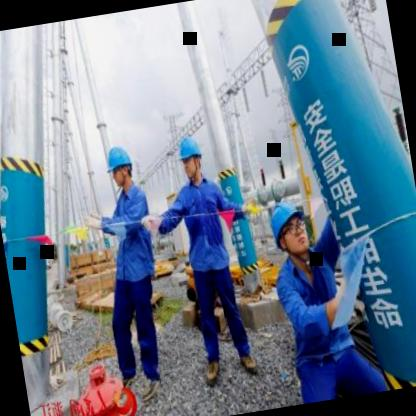helmet: (262, 192, 314, 262), (101, 139, 138, 194), (174, 128, 206, 184)
